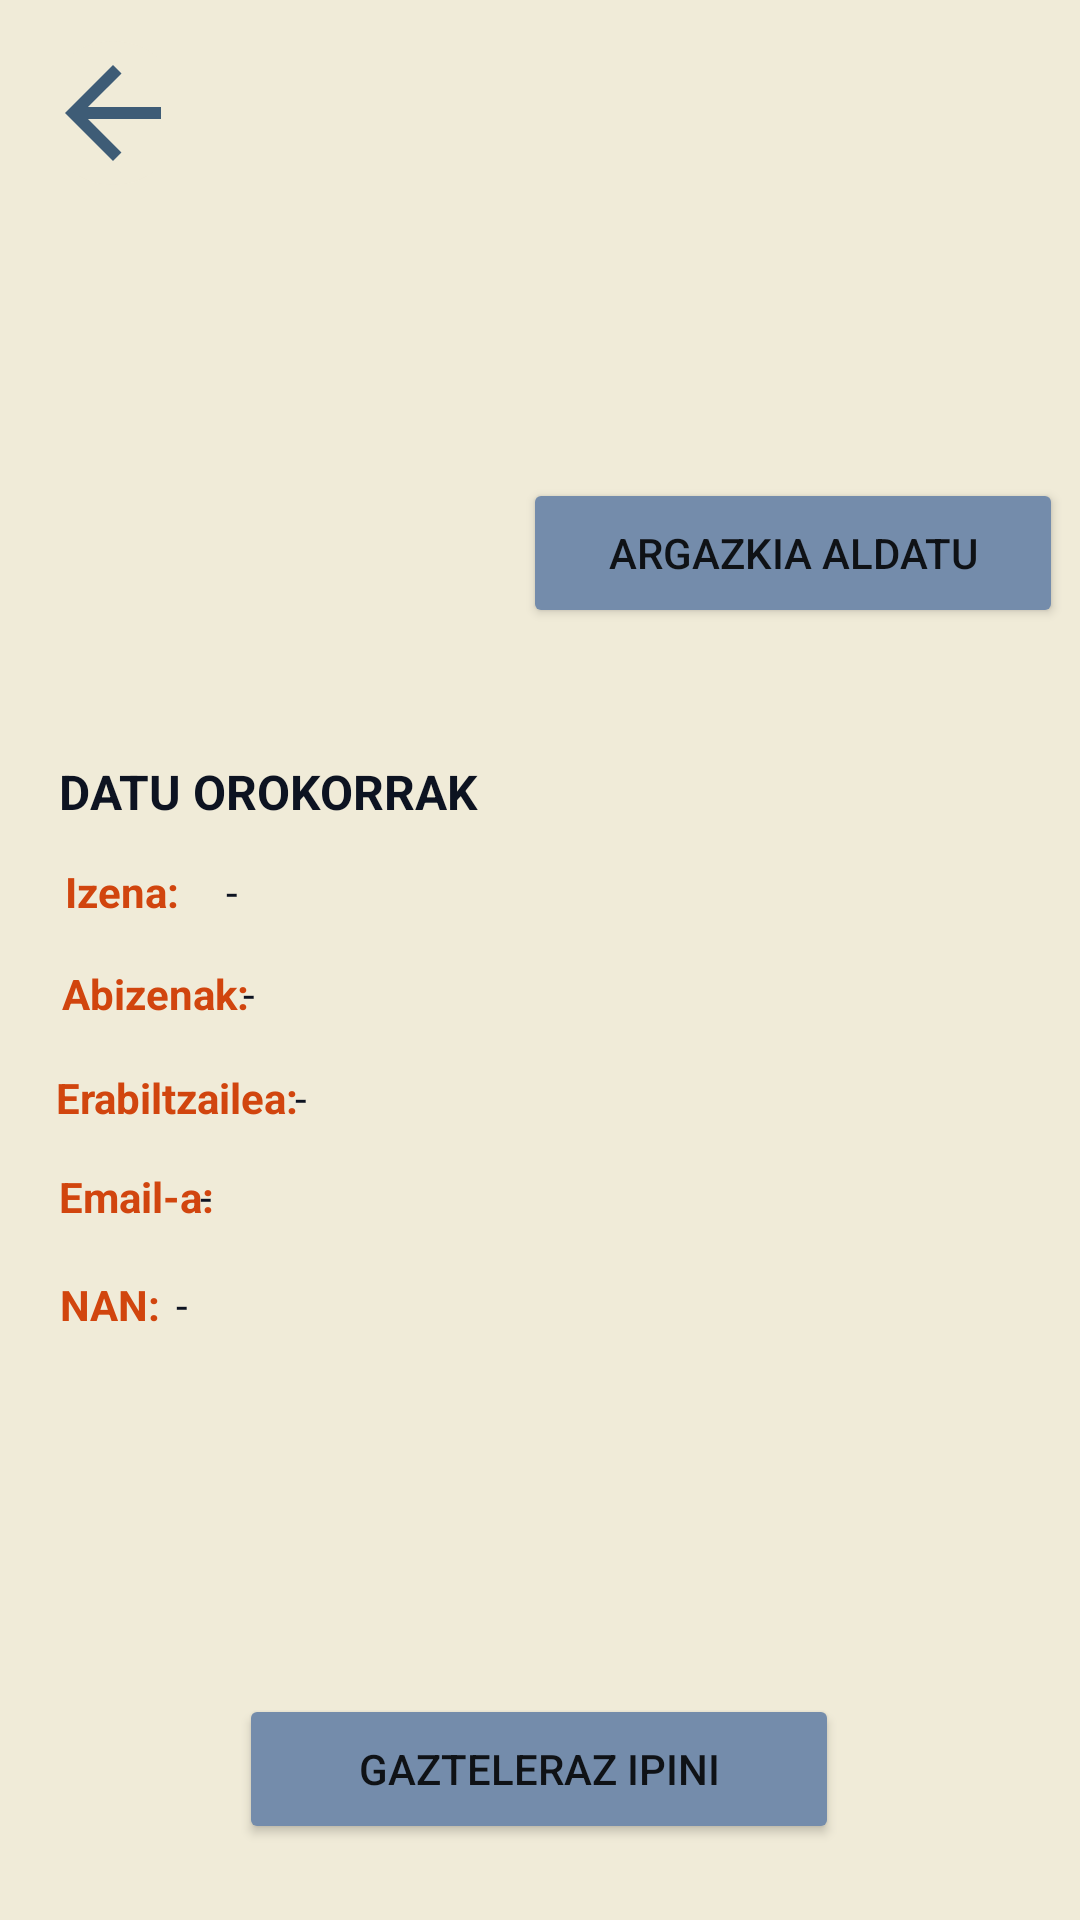

Locate icon controls on the screen. Image size 1080px x 1920px, boxes as (x1, y1, x2, y2).
Itzultzeko botoia: (65, 65, 161, 161)
